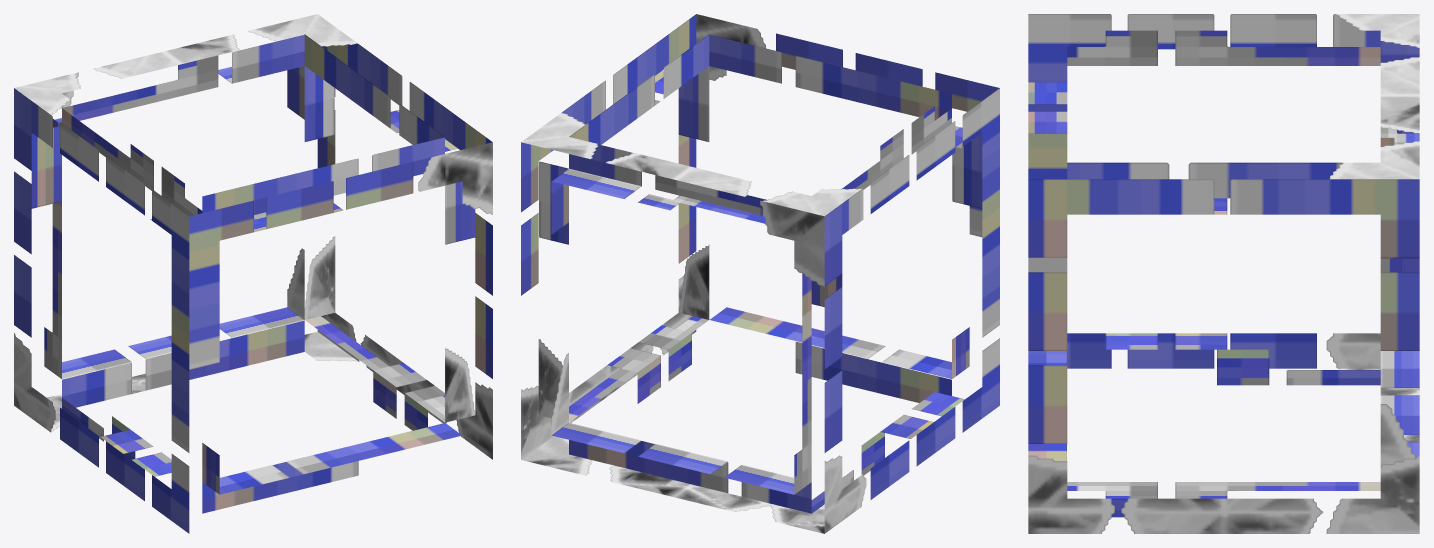
Rendered from flicker_habitat_frame.obj.
3 renders of one model, left to right at view 1: azimuth 30°, elevation 25°; view 2: azimuth 150°, elevation 25°; view 3: azimuth 270°, elevation 25°, orthographic. The views are drawn at different scales.
Parts seen in each view (by area): view 1: frame; view 2: frame; view 3: frame.
Part boxes in pixels (<box>): frame: <box>14,14,492,533</box>; frame: <box>521,14,999,533</box>; frame: <box>1028,14,1419,533</box>.
Size of the model in its own units: 1 by 1 by 1.
